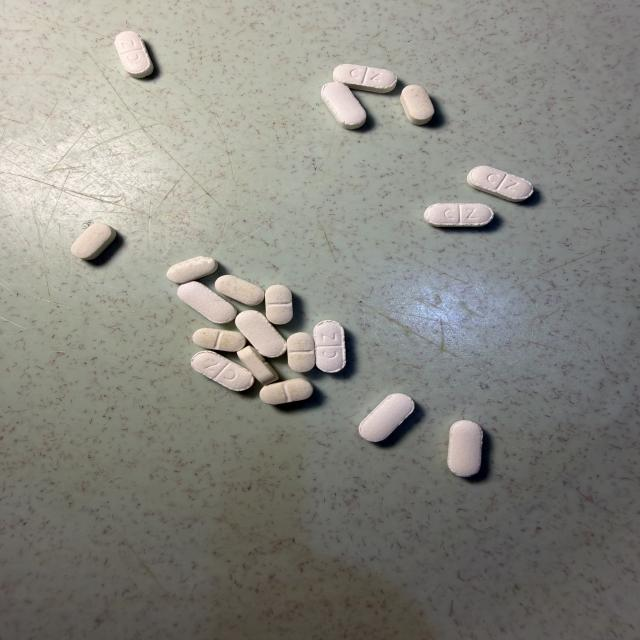pill: (359, 394, 414, 442), (192, 351, 254, 391), (178, 282, 236, 323), (467, 166, 533, 201), (236, 311, 286, 357), (321, 83, 366, 129), (448, 420, 482, 477), (334, 64, 397, 93), (115, 32, 153, 77), (314, 320, 346, 373), (71, 223, 116, 260), (424, 204, 493, 227), (238, 346, 278, 384), (215, 275, 264, 305), (167, 257, 217, 284), (260, 379, 313, 404), (401, 85, 434, 125), (192, 328, 246, 351), (287, 333, 315, 372), (265, 285, 292, 324)
